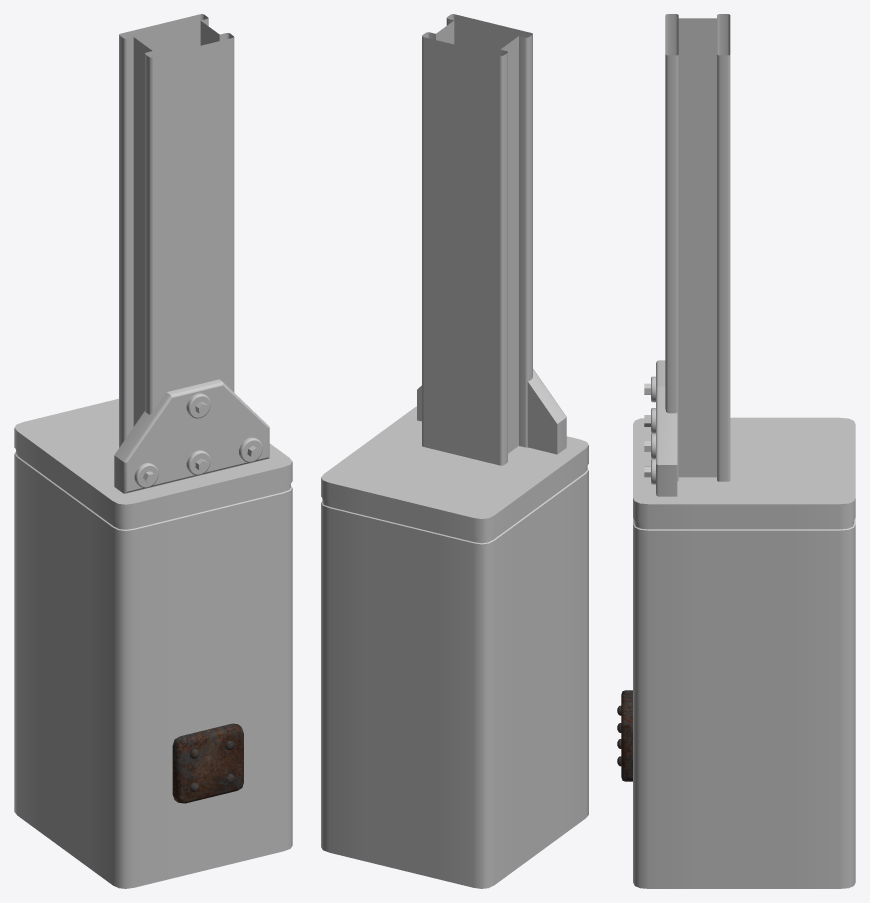
Rendered from SM_Kit_Colon_Concrete_X2.fbx.
The picture shows the model from 3 angles, left to right: view 1: azimuth 30°, elevation 25°; view 2: azimuth 150°, elevation 25°; view 3: azimuth 270°, elevation 25°; orthographic projection. The views are drawn at different scales.
Parts seen in each view (by area): view 1: SM_Kit_Colon_Concrete_X2_LOD0; view 2: SM_Kit_Colon_Concrete_X2_LOD0; view 3: SM_Kit_Colon_Concrete_X2_LOD0.
Part boxes in pixels (<box>): SM_Kit_Colon_Concrete_X2_LOD0: <box>14,14,292,888</box>; SM_Kit_Colon_Concrete_X2_LOD0: <box>321,14,588,888</box>; SM_Kit_Colon_Concrete_X2_LOD0: <box>617,14,855,888</box>.
Size of the model in its own units: 127 by 148 by 556.
Materials: 4 (1 with a texture image).
